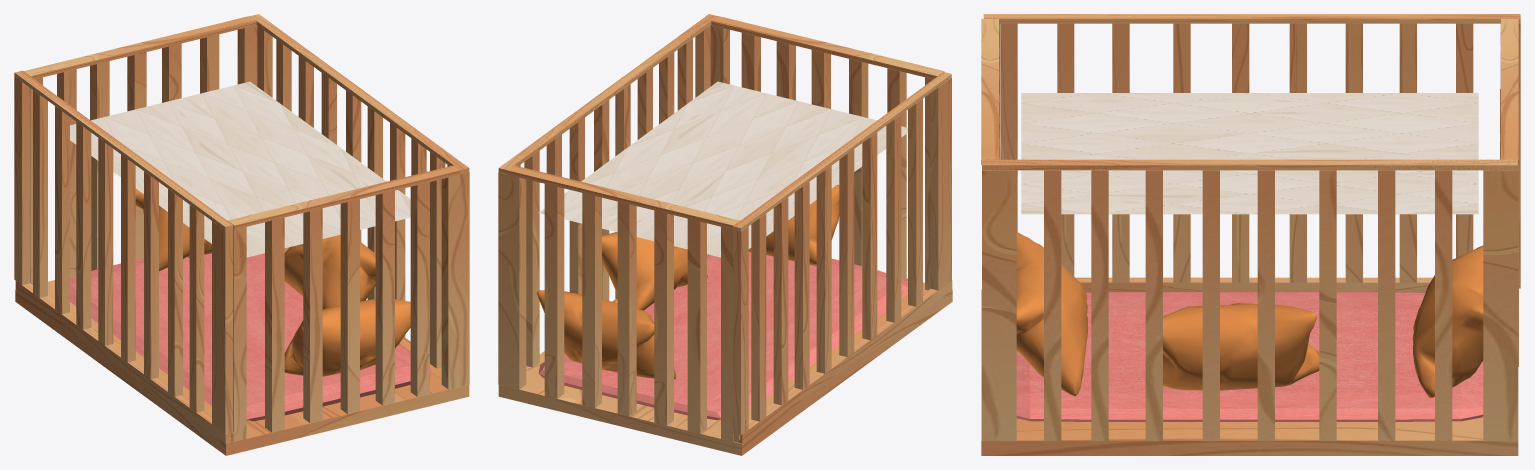
Rendered from parkV2.fbx.
3 renders of one model, left to right at view 1: azimuth 30°, elevation 25°; view 2: azimuth 150°, elevation 25°; view 3: azimuth 270°, elevation 25°, orthographic. The views are drawn at different scales.
Visible parts, largest first — view 1: Barreaux, Porte, couverture, matelas, Sol, coussin_droit, coussin_central, Rail, coussin_gauche; view 2: Barreaux, Porte, couverture, matelas, Sol, coussin_gauche, Rail, coussin_central, coussin_droit; view 3: Barreaux, couverture, Porte, matelas, Sol, coussin_central, coussin_droit, coussin_gauche, Rail.
Boxes of the visible parts, x1,y1,x2,y2 form: Barreaux: (23, 14, 469, 441); Porte: (14, 70, 233, 438); couverture: (70, 81, 410, 257); matelas: (70, 253, 430, 421); Sol: (15, 280, 469, 455); coussin_droit: (284, 298, 410, 376); coussin_central: (284, 235, 375, 309); Rail: (15, 281, 233, 443); coussin_gauche: (135, 188, 211, 271); Barreaux: (498, 14, 944, 441); Porte: (733, 72, 951, 440); couverture: (538, 81, 907, 257); matelas: (538, 252, 907, 420); Sol: (498, 278, 952, 455); coussin_gauche: (537, 290, 676, 379); Rail: (734, 280, 952, 443); coussin_central: (602, 232, 707, 310); coussin_droit: (748, 184, 839, 265); Barreaux: (981, 19, 1518, 441); couverture: (1021, 93, 1478, 214); Porte: (983, 14, 1520, 288); matelas: (1016, 292, 1483, 421); Sol: (981, 289, 1518, 455); coussin_central: (1163, 303, 1319, 390); coussin_droit: (1016, 232, 1087, 396); coussin_gauche: (1412, 245, 1483, 397); Rail: (1075, 277, 1432, 292).
Bounding box in the file's own units: 364 × 406 × 611.
Materials: 8 (7 with a texture image).
